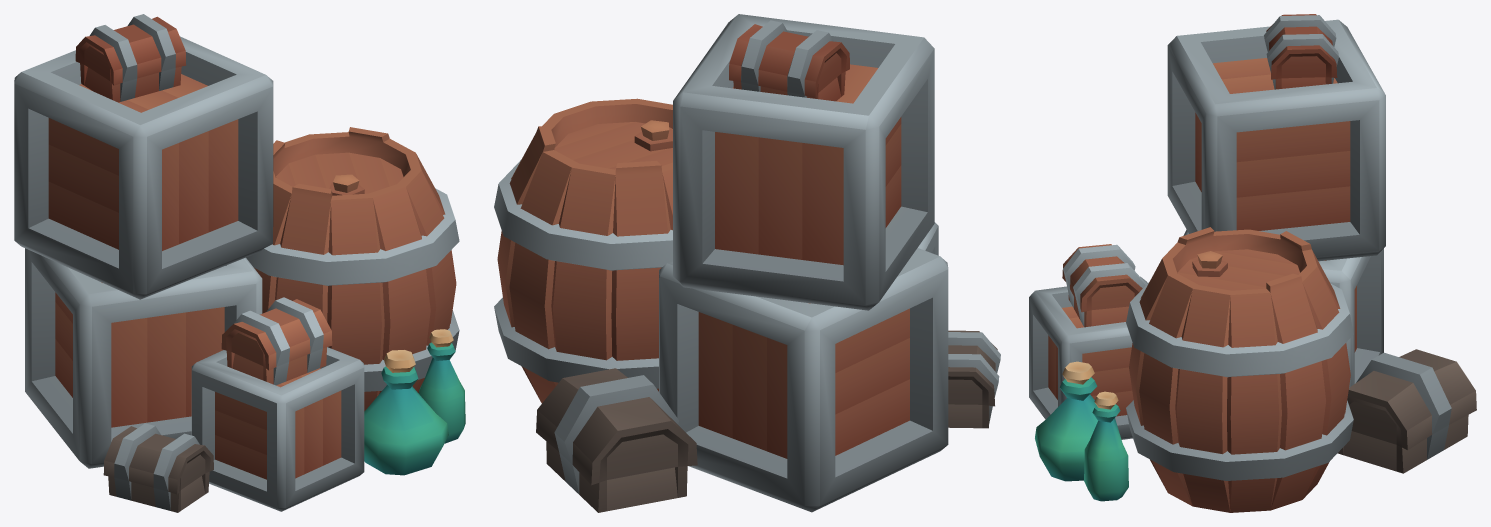
File: box_stacked.gltf
3 views of the same model, side by side, from view 1: azimuth 30°, elevation 25°; view 2: azimuth 150°, elevation 25°; view 3: azimuth 270°, elevation 25° (orthographic). The views are drawn at different scales.
Parts seen in each view (by area): view 1: box_stacked; view 2: box_stacked; view 3: box_stacked.
Part boxes in pixels (x1,y1,x2,y2): box_stacked: [14, 14, 465, 512]; box_stacked: [494, 14, 1000, 512]; box_stacked: [1029, 14, 1476, 512].
Bounding box in the file's own units: 3.48 × 3.31 × 3.63.
1 material, 1 textured.
